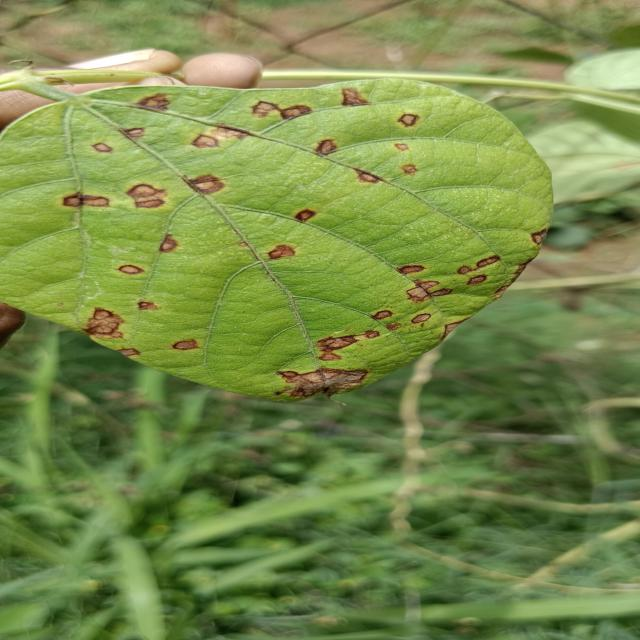Dolicos bean_cercospora leaf spot: (0, 82, 554, 402)
